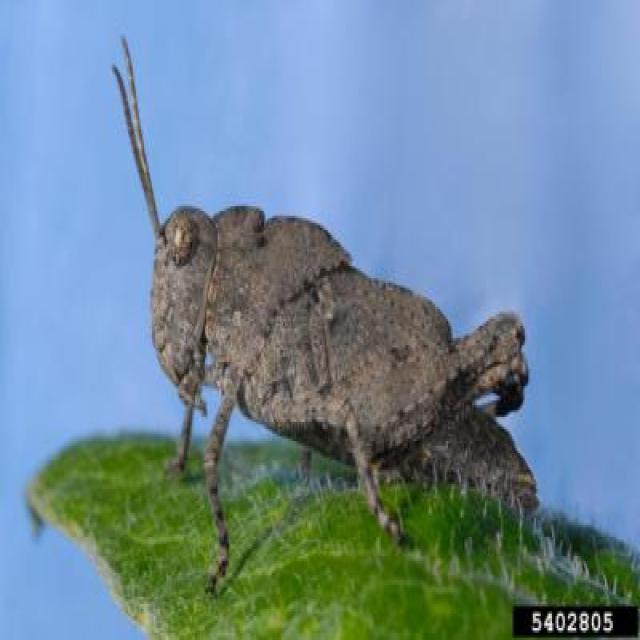antennae: (122, 36, 160, 234), (112, 67, 154, 235)
body: (154, 212, 536, 509)
insect: (110, 35, 542, 594)
legs: (198, 367, 252, 594), (329, 396, 410, 539), (163, 351, 206, 478), (297, 439, 312, 495)
mouthpart: (160, 348, 210, 410)
